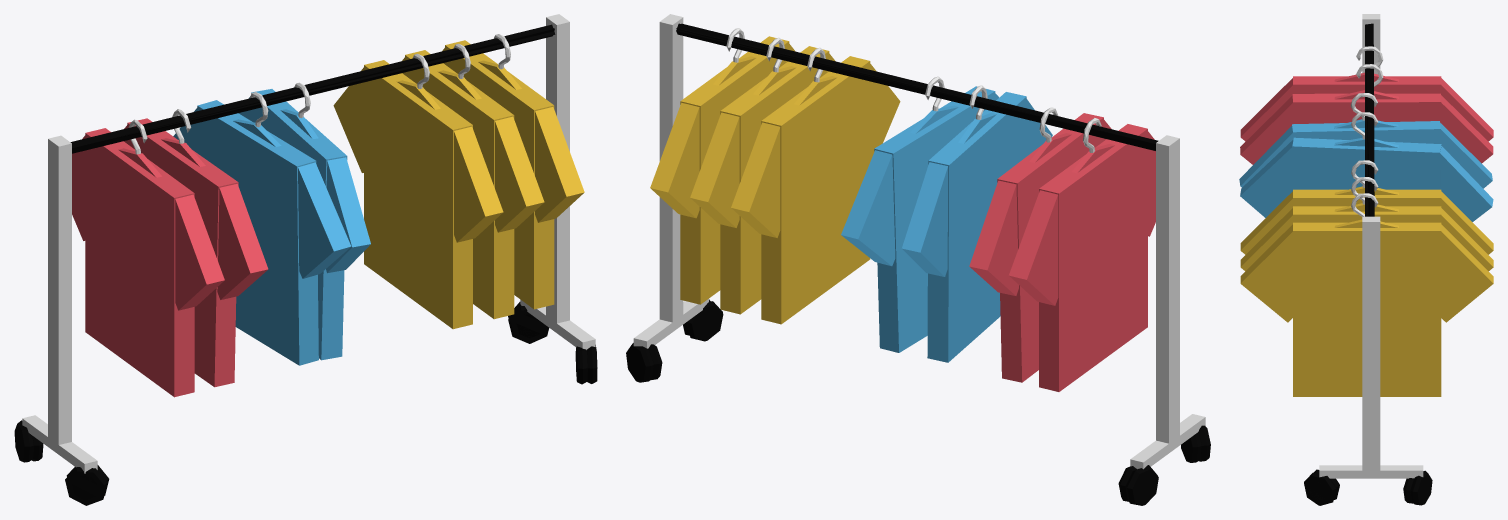
File: rack_4.fbx
3 renders of one model, left to right at view 1: azimuth 30°, elevation 25°; view 2: azimuth 150°, elevation 25°; view 3: azimuth 270°, elevation 25°, orthographic. The views are drawn at different scales.
Parts seen in each view (by area): view 1: Plane.005, Plane.001, Plane.004, Plane.003, Plane.006, Plane.007, Stand.R, Plane.002, Bar, Stand.L, Roll.R_1, Roll.L_2 (+2 smaller); view 2: Plane.001, Plane.005, Plane.004, Plane.002, Plane.006, Plane.003, Plane.007, Stand.R, Stand.L, Bar, Roll.R_2, Roll.L_2 (+2 smaller); view 3: Plane.007, Plane.002, Plane.003, Stand.L, Plane.004, Plane.001, Plane.005, Plane.006, Bar, Roll.L_1, Roll.L_2, Stand.R.
Boxes of the visible parts, x1,y1,x2,y2 form: Plane.005: [333, 60, 503, 329]; Plane.001: [72, 128, 224, 397]; Plane.004: [173, 100, 351, 365]; Plane.003: [124, 118, 268, 387]; Plane.006: [402, 50, 544, 319]; Plane.007: [442, 40, 584, 309]; Stand.R: [22, 135, 97, 473]; Plane.002: [238, 89, 370, 360]; Bar: [70, 24, 555, 153]; Stand.L: [520, 14, 595, 349]; Roll.R_1: [65, 465, 109, 505]; Roll.L_2: [508, 302, 548, 343]; Plane.001: [1009, 124, 1155, 391]; Plane.005: [731, 56, 900, 324]; Plane.004: [902, 92, 1052, 362]; Plane.002: [841, 86, 999, 352]; Plane.006: [690, 46, 835, 314]; Plane.003: [969, 113, 1111, 382]; Plane.007: [650, 36, 795, 304]; Stand.R: [1130, 135, 1205, 469]; Stand.L: [633, 14, 708, 348]; Bar: [676, 23, 1158, 150]; Roll.R_2: [1118, 465, 1158, 505]; Roll.L_2: [626, 343, 662, 382]; Plane.007: [1240, 219, 1493, 396]; Plane.002: [1240, 137, 1493, 221]; Plane.003: [1240, 90, 1493, 164]; Stand.L: [1319, 216, 1423, 478]; Plane.004: [1239, 119, 1492, 188]; Plane.001: [1240, 72, 1493, 141]; Plane.005: [1240, 186, 1493, 254]; Plane.006: [1240, 203, 1493, 271]; Bar: [1365, 23, 1374, 216]; Roll.L_1: [1304, 469, 1339, 505]; Roll.L_2: [1403, 470, 1432, 505]; Stand.R: [1362, 14, 1380, 74].
Bounding box in the file's own units: 561 × 347 × 278.
